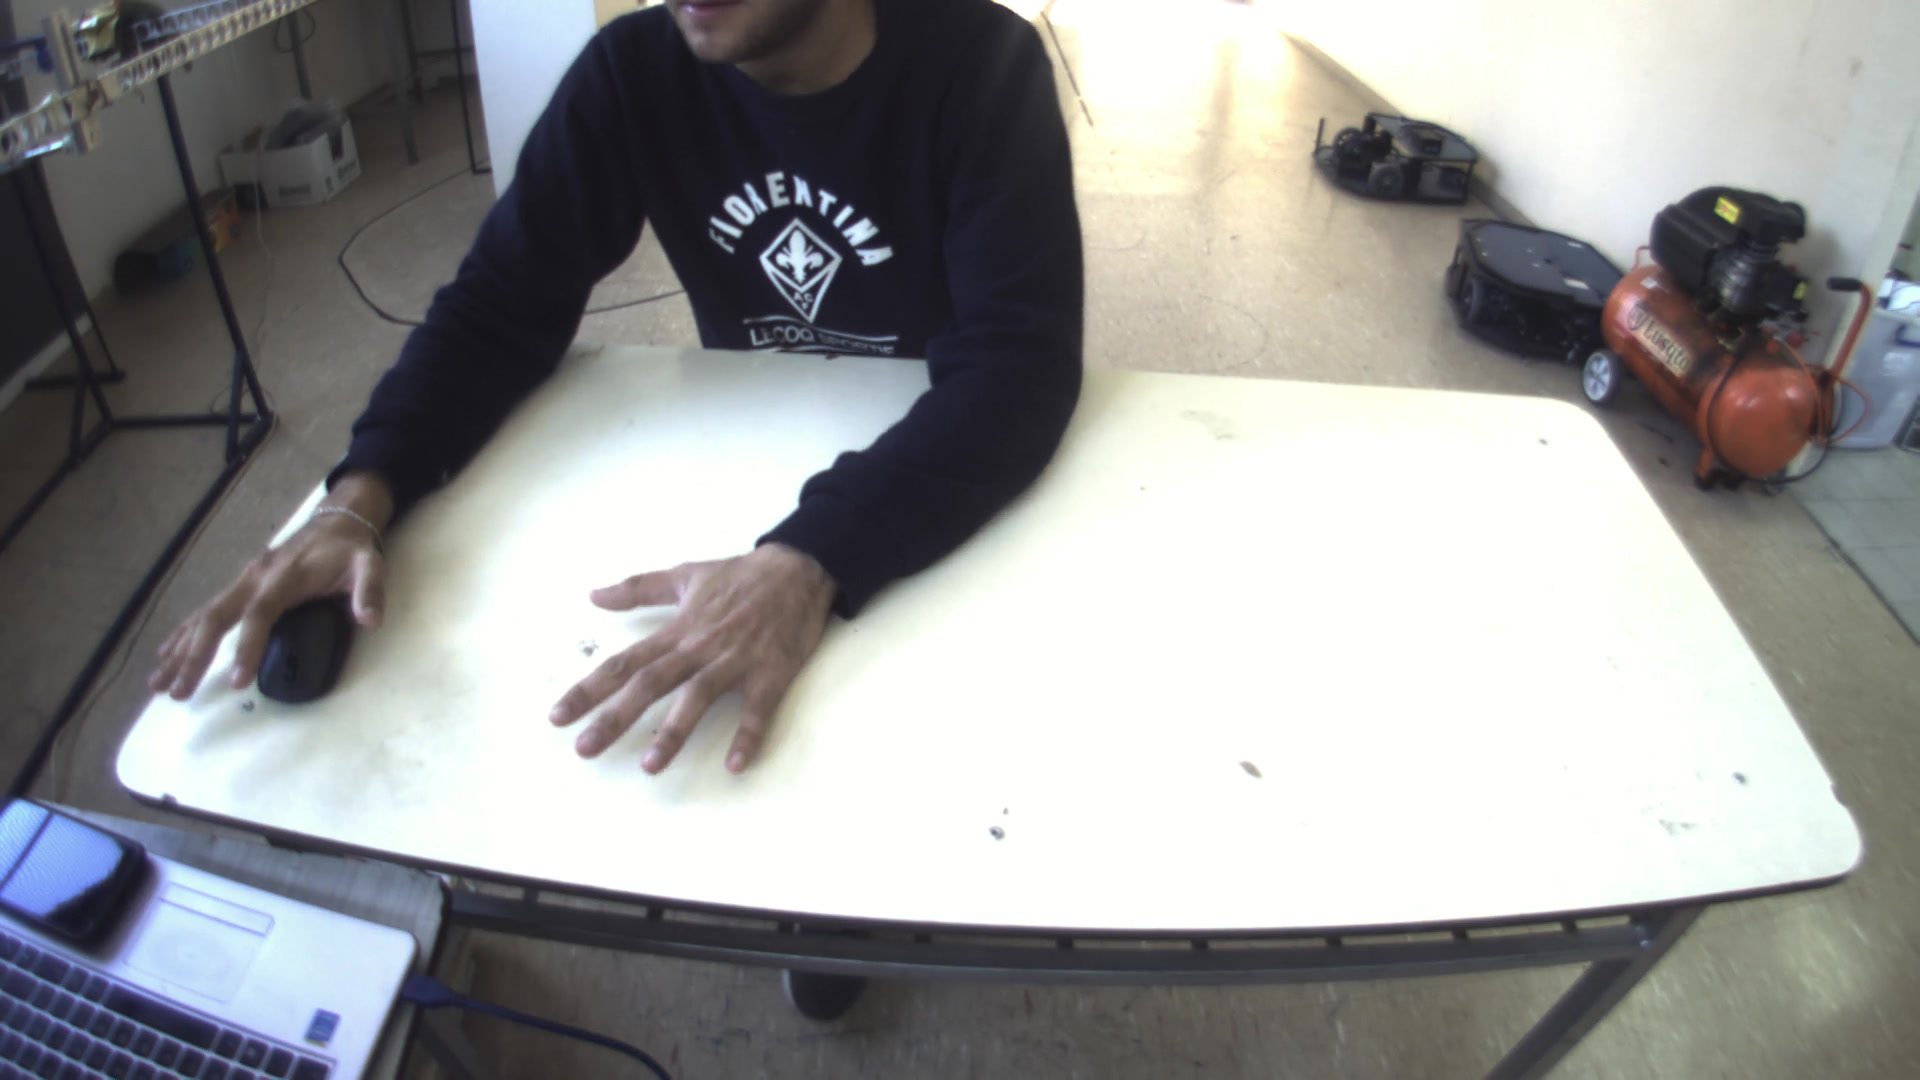hand: (534, 531, 837, 793), (136, 504, 393, 713)
